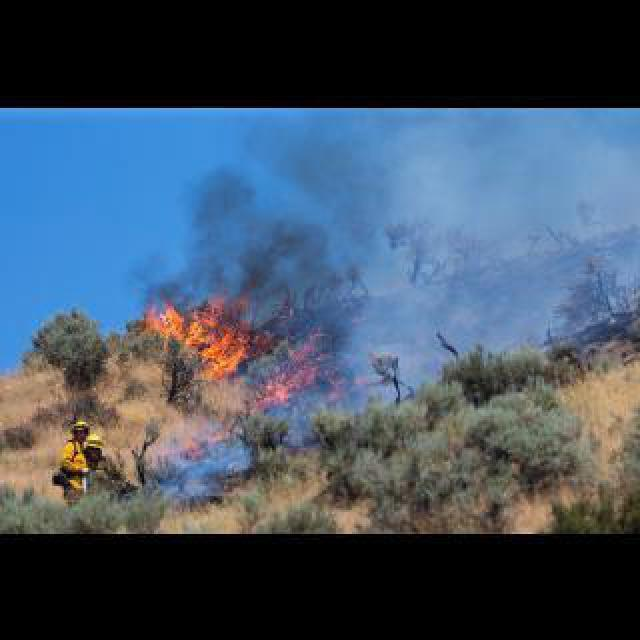Fire: (124, 272, 262, 386), (256, 334, 372, 406)
Smoke: (183, 158, 364, 346)
